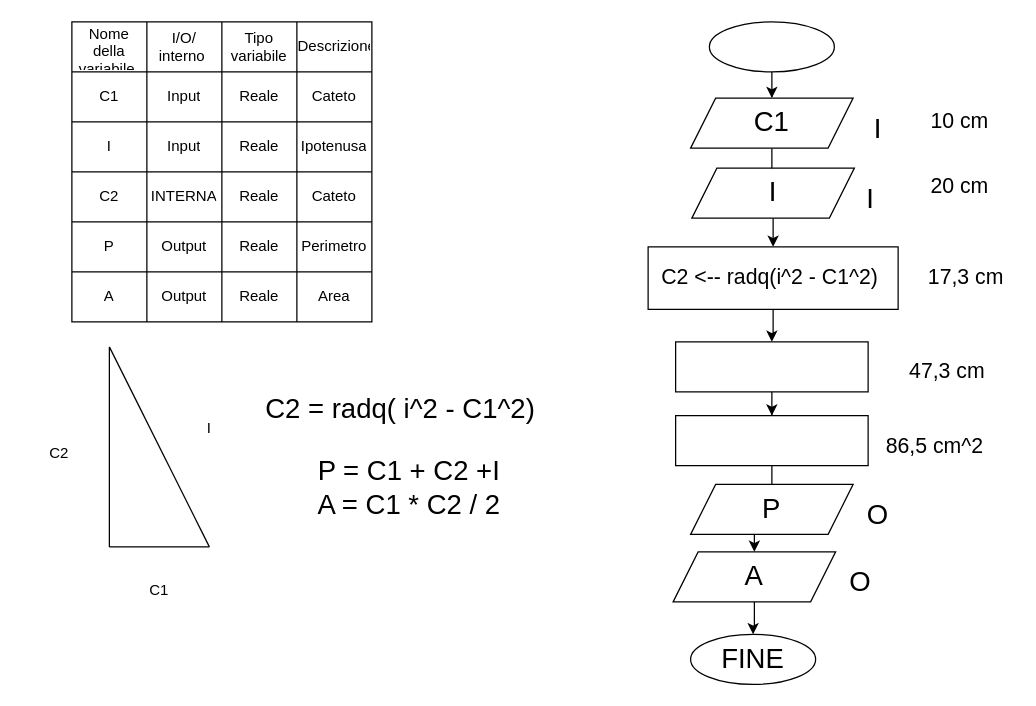
Image size: 1036x706. Some labels were removed from this diagram. Here are the shapes that lost their labels. From the top down, the centre of each, then its label:
the point at 771,46: START
the point at 771,366: P <-- C1 + C2 + I
the point at 771,440: A <-- C1 * C2 / 2
